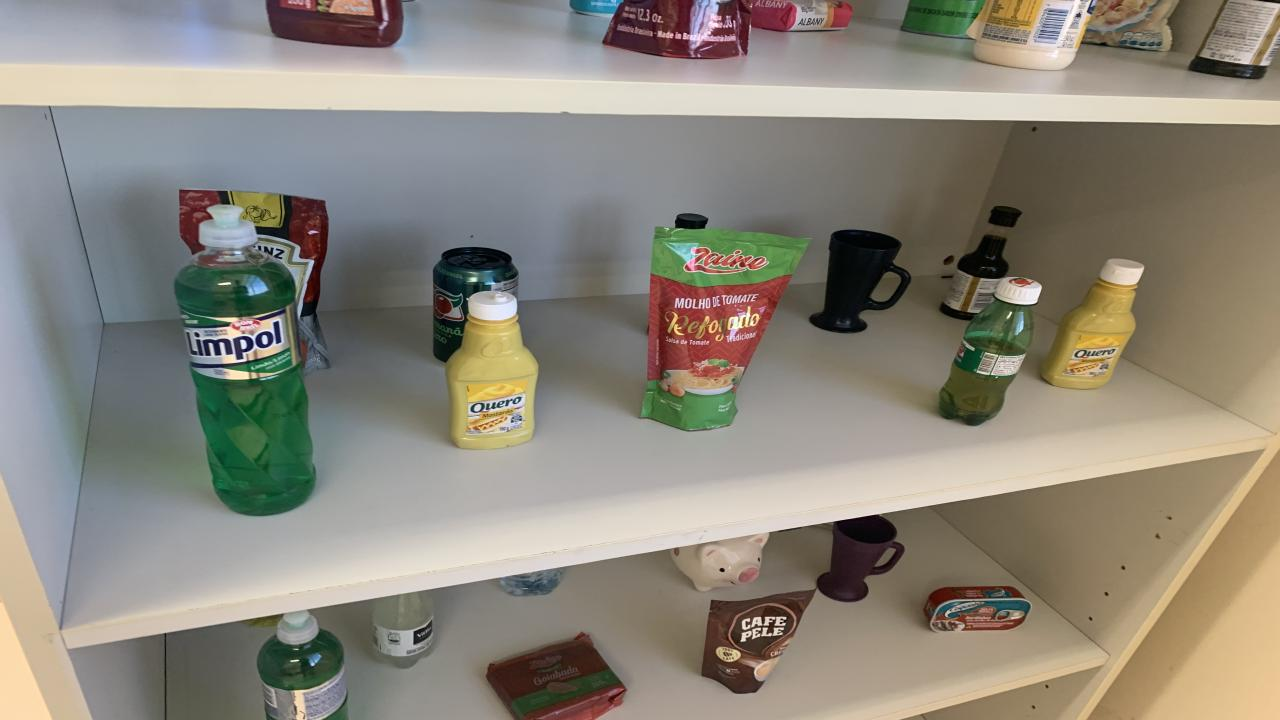Coffee-Pantry_Items: (702, 591, 815, 694)
Detergent-Cleanup_Items: (175, 204, 315, 516), (258, 609, 348, 720)
English_Sauce-Pantry_Items: (940, 206, 1020, 321), (1190, 0, 1280, 79)
Flakes-Snacks: (1082, 0, 1178, 51)
Guarana-Drinks: (940, 278, 1042, 426)
Guarana_Can-Drinks: (432, 248, 518, 362)
Guava-Snacks: (488, 634, 628, 720)
Ketchup-Pantry_Items: (265, 0, 402, 47)
Mayonnaise-Pantry_Items: (968, 0, 1095, 69)
Mustard-Pantry_Items: (445, 291, 538, 450), (1042, 259, 1145, 388)
Pig_Safe-Miscellaneous: (670, 532, 770, 592)
Pringles-Snacks: (902, 0, 985, 38)
Soap-Cleanup_Items: (752, 0, 852, 32)
Soda-Drinks: (372, 591, 432, 668)
Tomato_Sauce-Pantry_Items: (640, 227, 810, 431), (180, 189, 328, 373), (602, 0, 752, 58)
Tuna_Can-Pantry_Items: (925, 587, 1030, 632)
Water_Bottle-Drinks: (500, 568, 565, 596)
